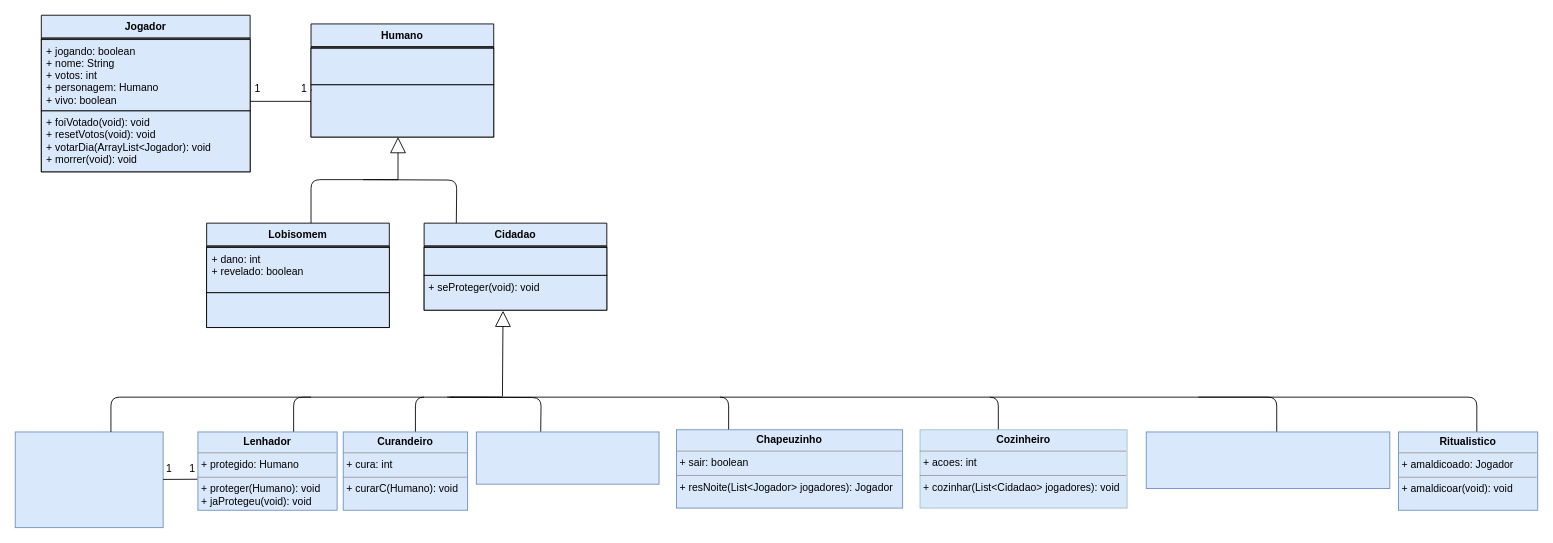
Some shapes in this 1553 by 543 pixel diagram are drawn without their labels. The centre of each missing label's shape, as x and y in pixels:
"+ darDano(Humano): void" goes at (x=297, y=310).
"+ perderVida(int): void + curar(int): void + darDano(Humano);" goes at (x=402, y=110).
"+ protegido: Boolean" goes at (x=515, y=261).
"+ vida: int + nomeClasse: String" goes at (x=402, y=66).
"Cortesa + brincarDeMedico(Humano, int): void" goes at (x=567, y=457).
"Mineiro + mineiroMorreu(List<Jogadores> jogadores): void" goes at (x=1267, y=460).
"Vovo + atacada: boolean + protetor: Lenhador + primeiroAtaque(void): void" goes at (x=88, y=479).
